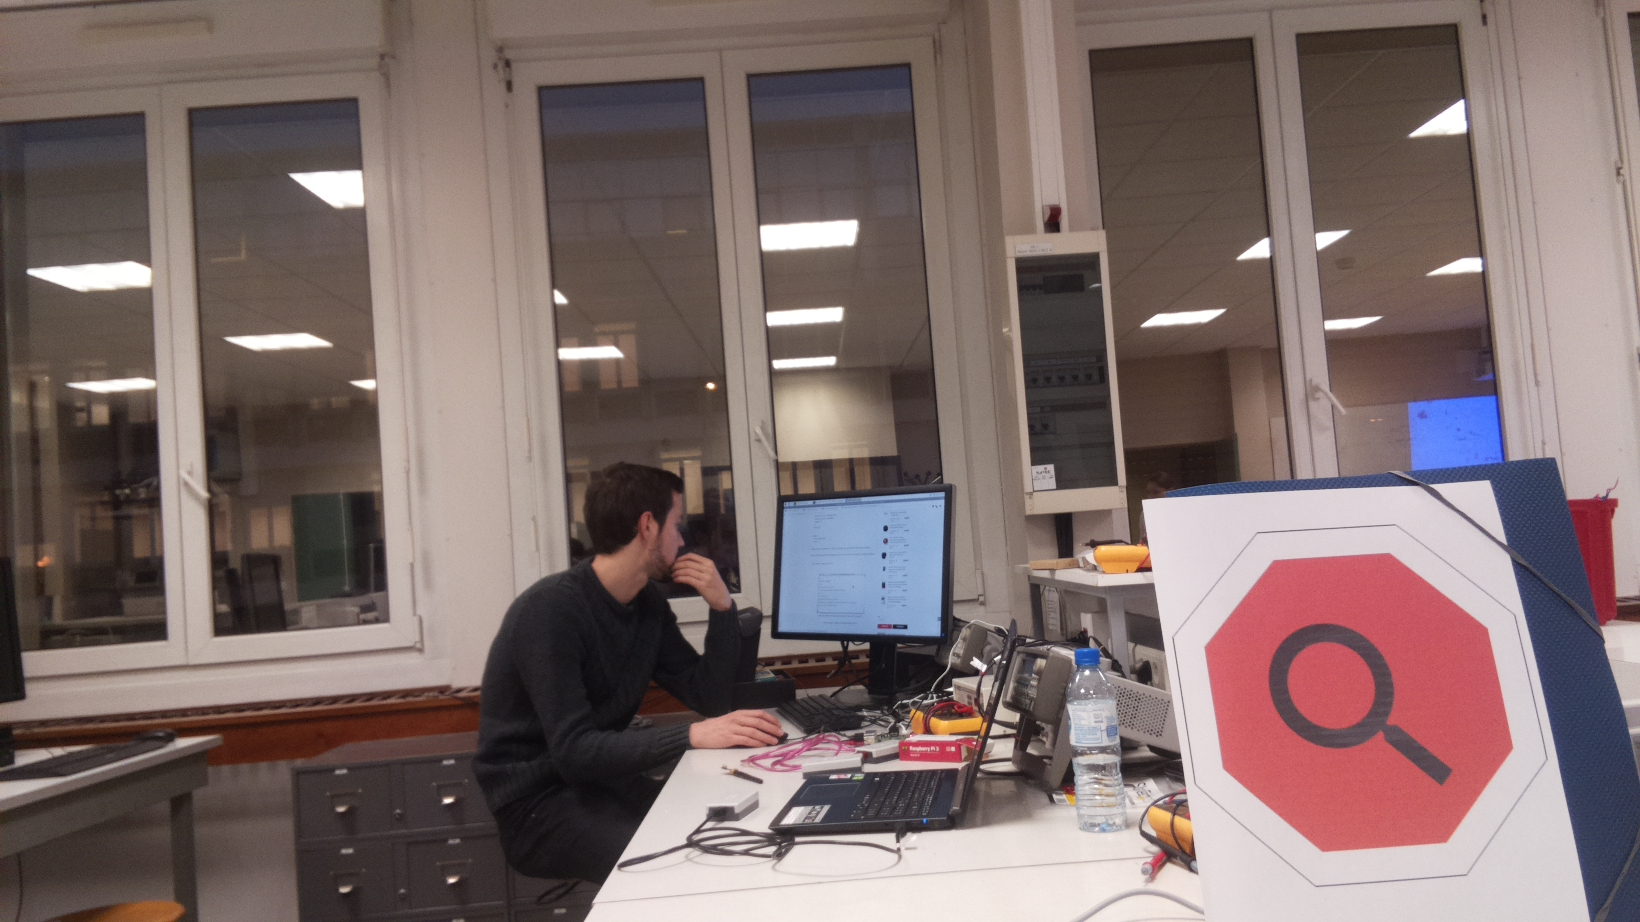search: (1177, 525, 1549, 883)
